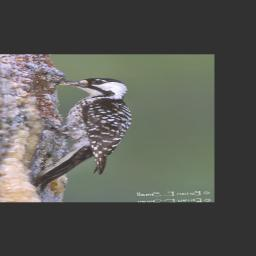Woodpecker: (20, 77, 144, 190)
